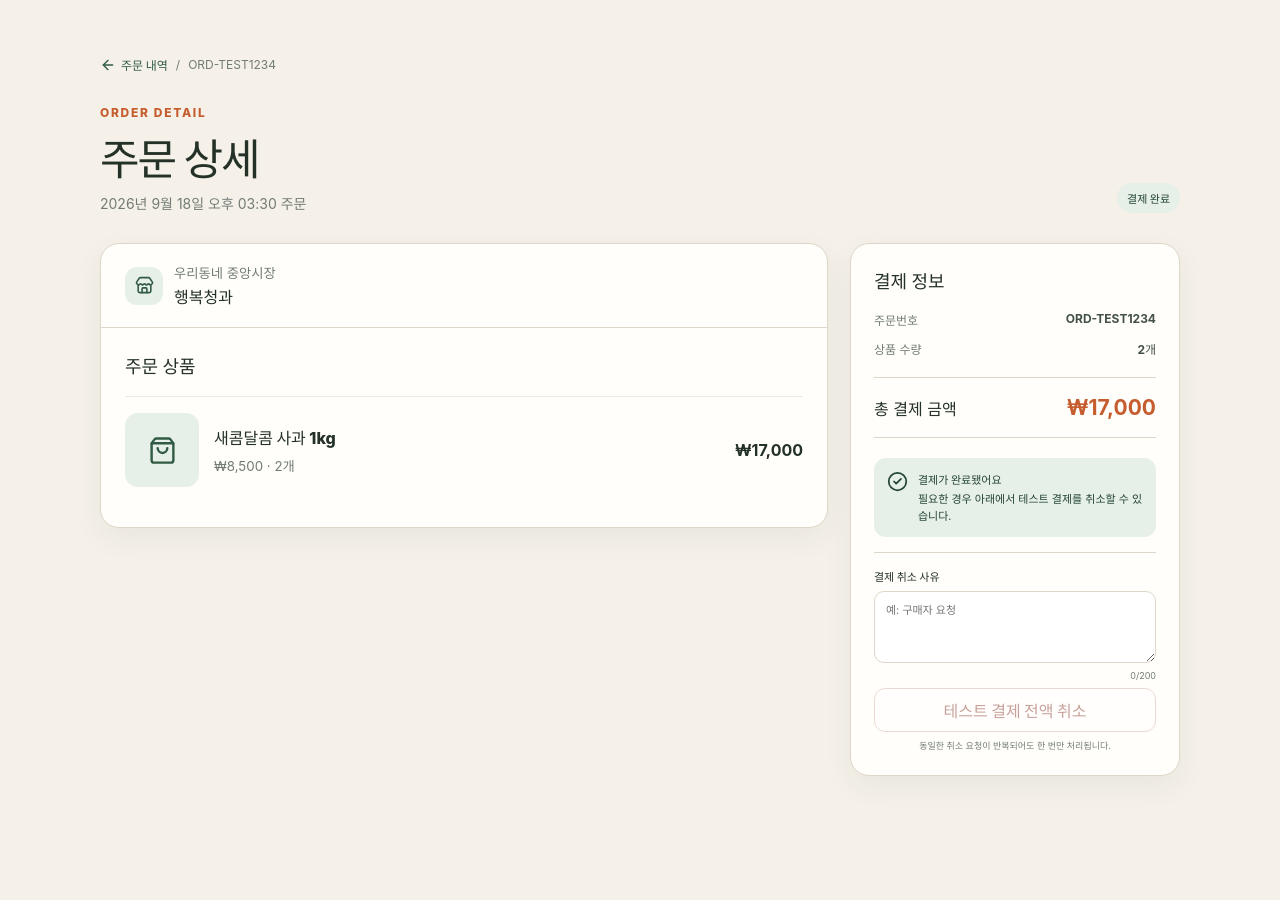
Scenario: OrderDetailPage › 결제 완료 주문의 전액 결제를 취소하고 상태를 갱신한다
The width and height of the screenshot is (1280, 900).
Type "구매자 요청" into the text box labelled "결제 취소 사유" at (1015, 627), box left=874, top=591, right=1156, bottom=662
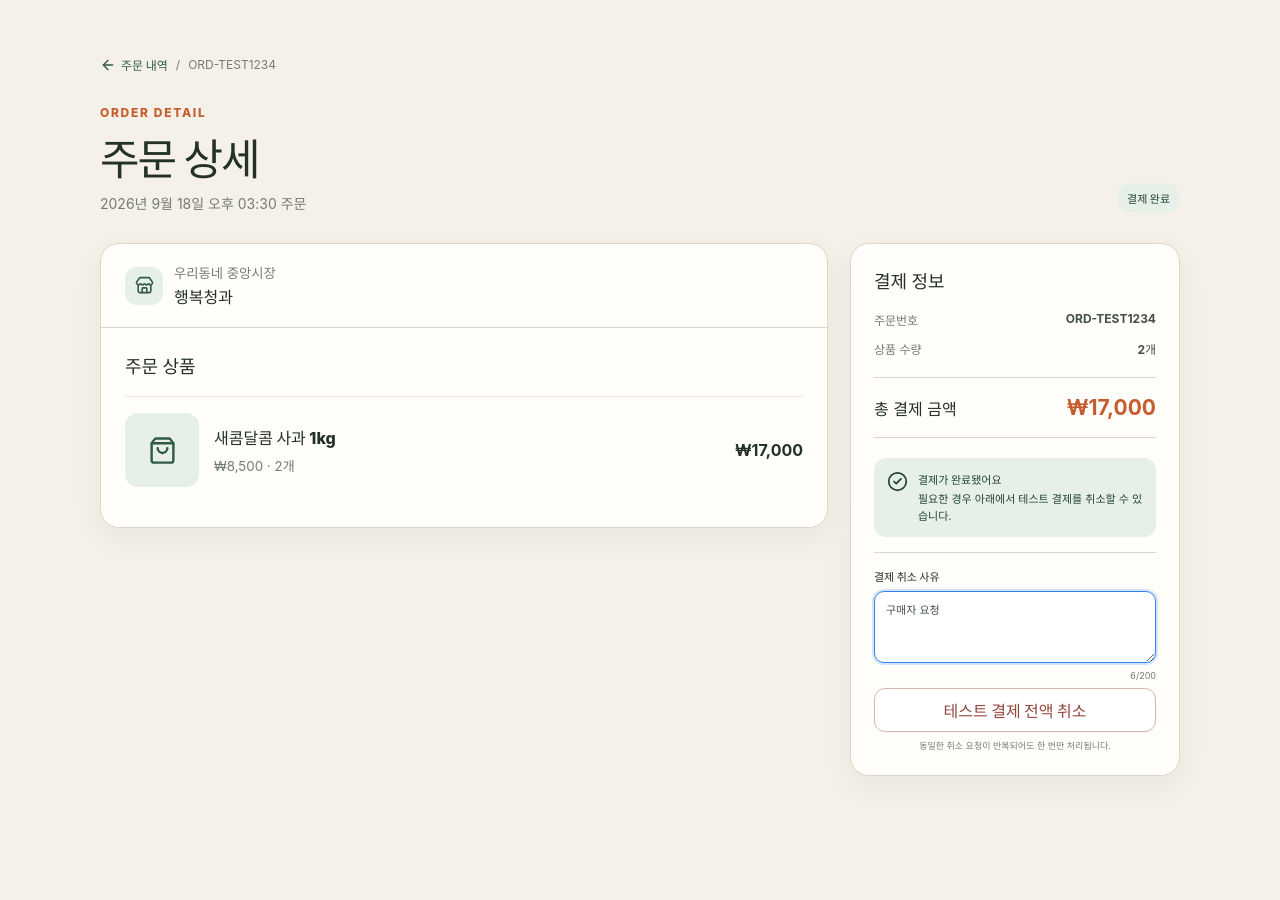
Click the button "테스트 결제 전액 취소" at (1015, 710), box left=874, top=688, right=1156, bottom=732
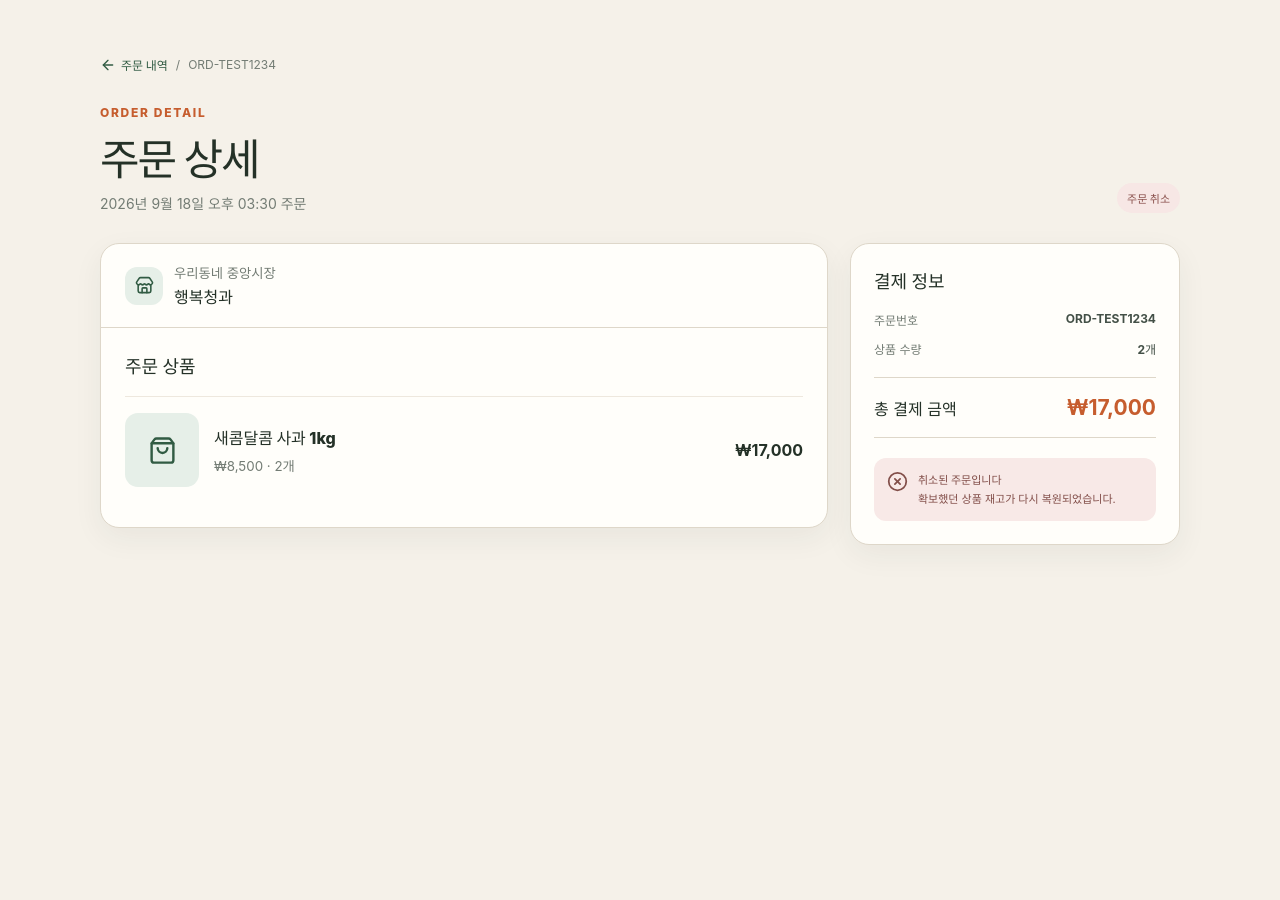
Expected: the text "취소된 주문입니다" is shown, left=918, top=473, right=1002, bottom=487
